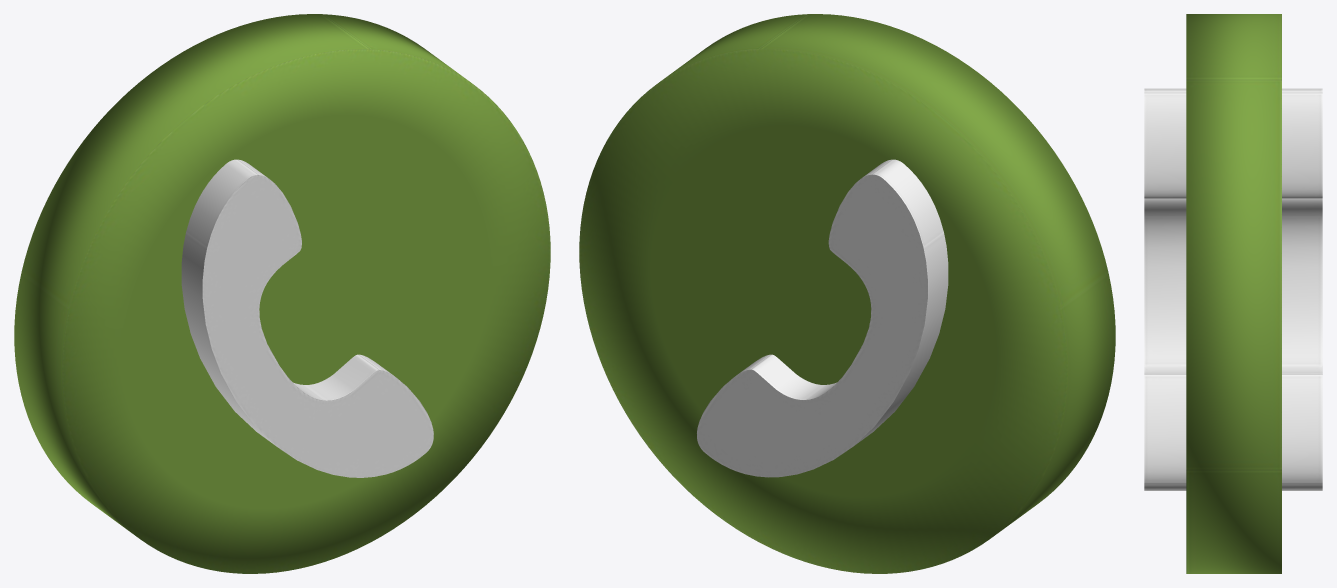
The model's file is model_PhoneCallIcon.glb.
3 views of the same model, side by side, from view 1: azimuth 30°, elevation 25°; view 2: azimuth 150°, elevation 25°; view 3: azimuth 270°, elevation 25° (orthographic).
Visible parts, largest first — view 1: make_a_call_make a call_0; view 2: make_a_call_make a call_0; view 3: make_a_call_make a call_0.
Boxes of the visible parts, left/top/right/bottom form: make_a_call_make a call_0: left=14, top=14, right=550, bottom=573; make_a_call_make a call_0: left=579, top=14, right=1115, bottom=573; make_a_call_make a call_0: left=1144, top=14, right=1322, bottom=573.
Bounding box in the file's own units: 0.3792 × 0.3791 × 0.1207.
1 material, 1 textured.
